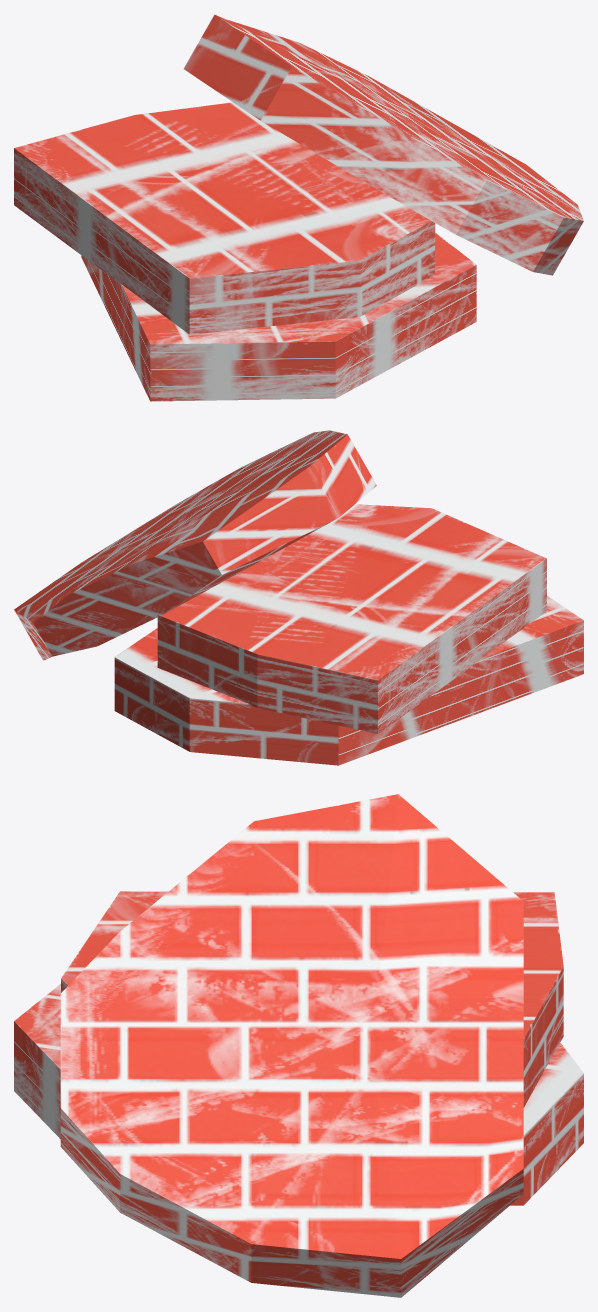
The model's file is DestroçosTijolo1.fbx.
The picture shows the model from 3 angles, top to bottom: view 1: azimuth 30°, elevation 25°; view 2: azimuth 150°, elevation 25°; view 3: azimuth 270°, elevation 25°; orthographic projection. The views are drawn at different scales.
Parts seen in each view (by area): view 1: Untitled; view 2: Untitled; view 3: Untitled.
Boxes of the visible parts, x1,y1,x2,y2 form: Untitled: [14, 14, 583, 401]; Untitled: [14, 430, 583, 765]; Untitled: [14, 794, 583, 1297].
Bounding box in the file's own units: 191 × 102 × 157.
